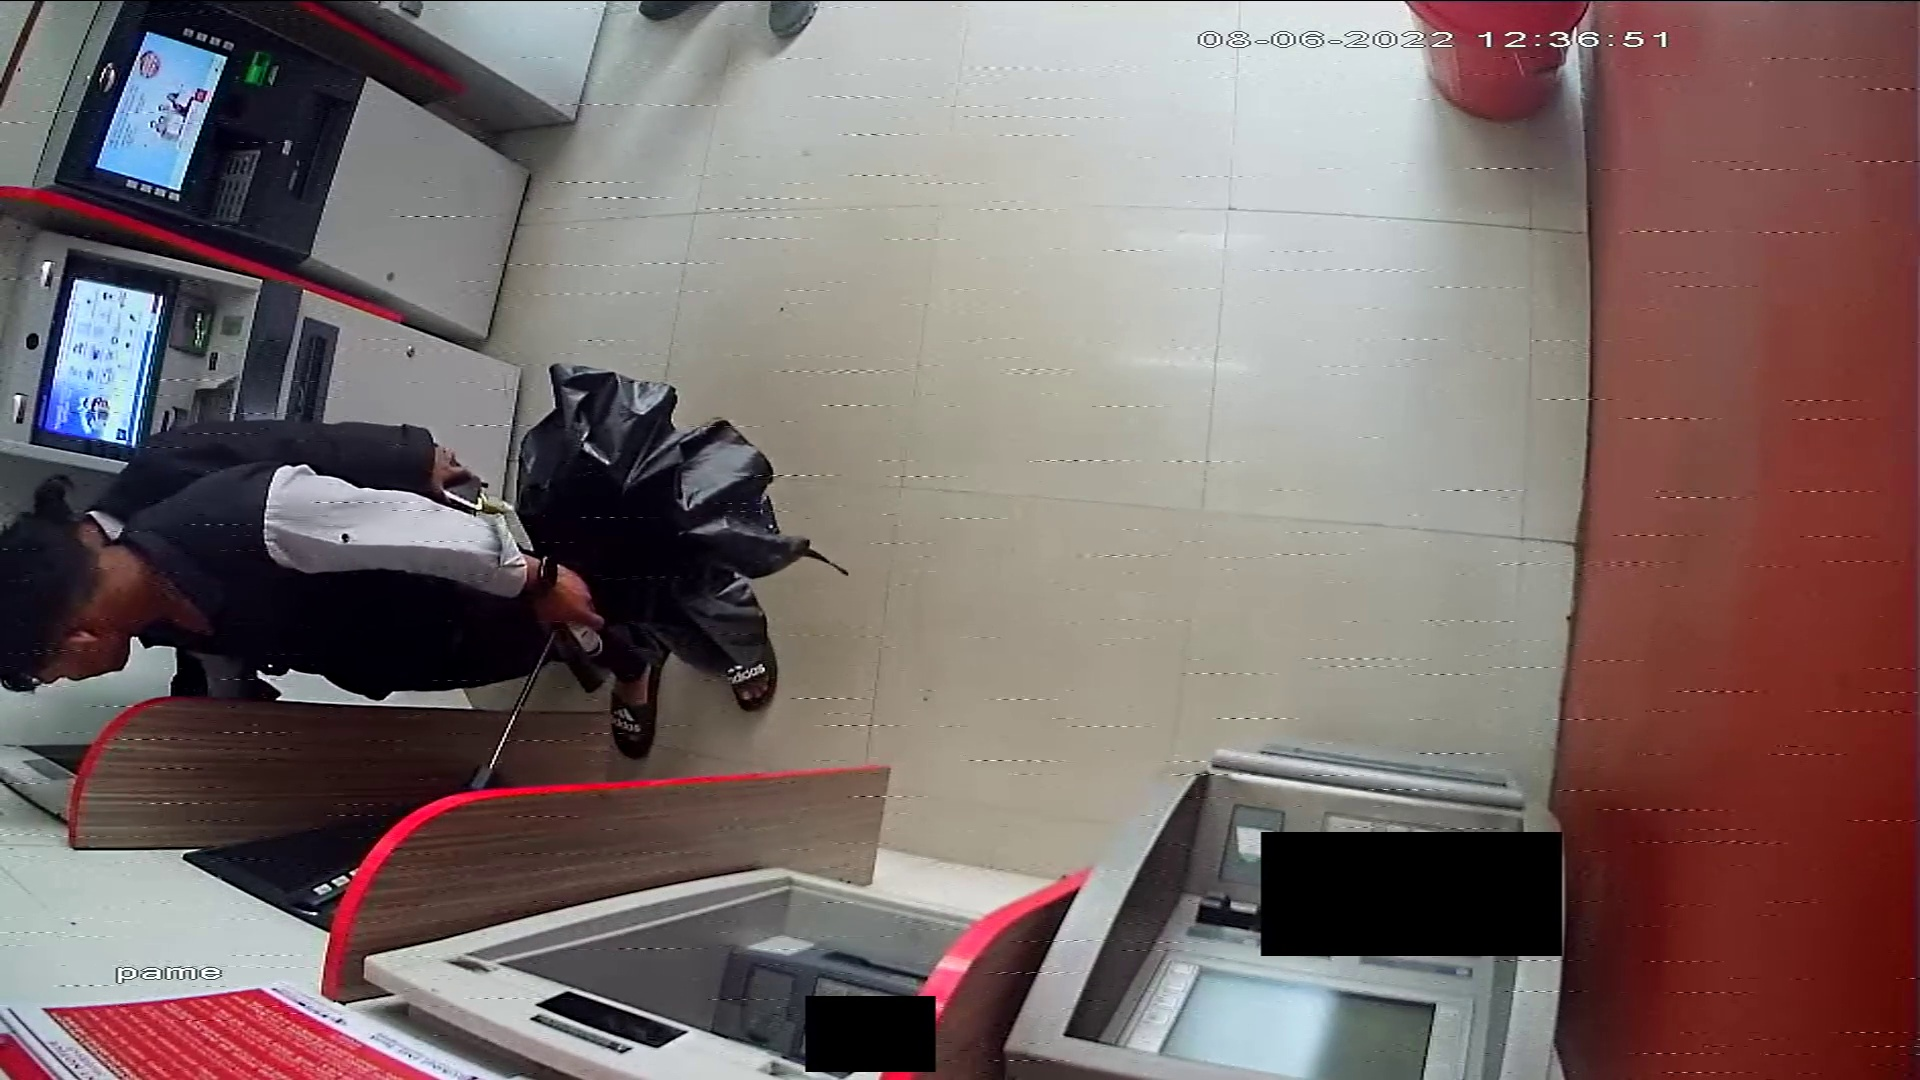person: (1, 466, 784, 743)
